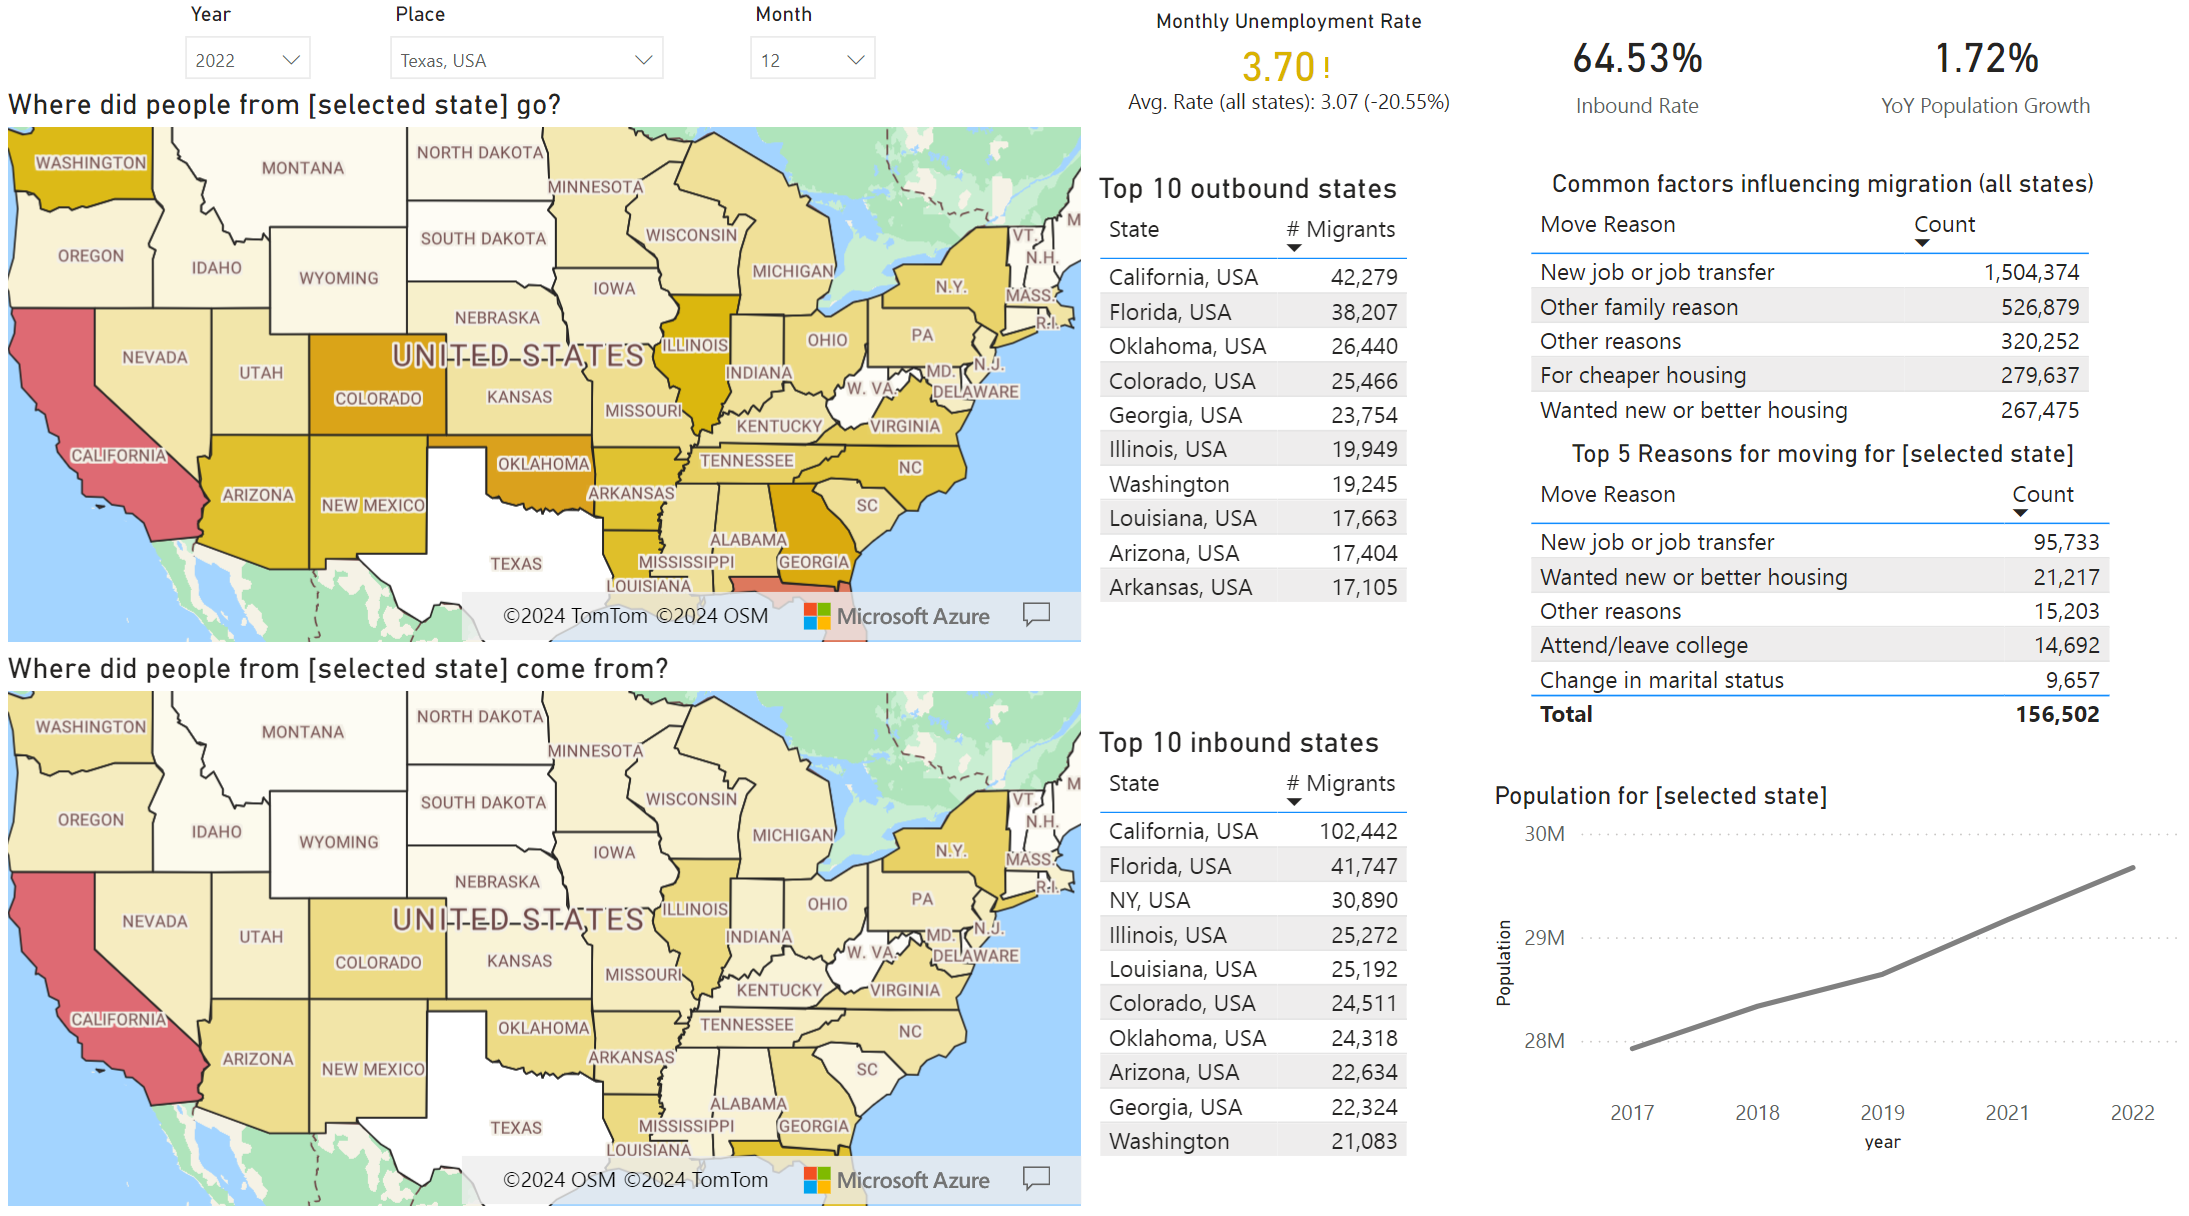

Layout of this report page (visuals, bound fields, positions):
{"tool":"powerbi","page":{"name":"State-to-State Migration","canvas":[1280,720],"ordinal":1},"visuals":[{"type":"slicer","fields":{"Values":["State_Filter.Place"]},"box":[116.2,0,178.6,53.8],"z":0},{"type":"slicer","fields":{"Values":["Year_Filter.year"]},"box":[0,0,93.1,53.7],"z":1000},{"type":"azureMap","title":"Where did people from [selected state] go?","fields":{"Category":["state_lookup.state_name"]},"box":[5.7,54.1,634.3,327.8],"z":2000},{"type":"azureMap","title":"Where did people from [selected state] come from?","fields":{"Category":["state_lookup.state_name"]},"box":[5.7,381.9,634.3,327.8],"z":3000},{"type":"tableEx","title":"Top 10 outbound states","fields":{"Values":["state_lookup.state_name","Measure Table.# Migrants FROM selected state"]},"box":[640,102.9,229.9,265.3],"z":4000},{"type":"tableEx","title":"Top 10 inbound states","fields":{"Values":["state_lookup.state_name","Measure Table.# Migrants TO selected state"]},"box":[640,424.5,229.9,265.3],"z":5000},{"type":"lineChart","title":"Population for [selected state]","fields":{"Category":["state_population_by_year.year"],"Y":["Measure Table.Population (Line Chart)"]},"box":[869.9,458.3,410.1,219.5],"z":6000},{"type":"tableEx","title":"Top 5 Reasons for moving for [selected state]","fields":{"Values":["move_reason_by_state.move_reason","Sum(move_reason_by_state.move_reason_count)"]},"box":[890.1,259.7,350.6,179.3],"z":7000},{"type":"tableEx","title":"Common factors influencing migration (all states)","fields":{"Values":["move_reason_by_state.move_reason","move_reason_by_state.move_reason_count"]},"box":[890.1,102.9,350.6,156.8],"z":8000},{"type":"card","fields":{"Values":["Measure Table.Inbound Rate (KPI)"]},"box":[870.2,0,135.7,70.4],"z":9000},{"type":"card","fields":{"Values":["Measure Table.YoY Population Growth"]},"box":[1070.6,0,141.5,70.4],"z":10000}]}

Visuals, with their boxes in screenshot pixels (x1, y1, x2, y2), scaled from the page's 1280x720 canvas onto the 2189x1216 screenshot:
slicer - State_Filter.Place: {"x1": 199, "y1": 0, "x2": 504, "y2": 91}
slicer - Year_Filter.year: {"x1": 0, "y1": 0, "x2": 159, "y2": 91}
"Where did people from [selected state] go?" azureMap: {"x1": 10, "y1": 91, "x2": 1094, "y2": 645}
"Where did people from [selected state] come from?" azureMap: {"x1": 10, "y1": 645, "x2": 1094, "y2": 1199}
"Top 10 outbound states" tableEx: {"x1": 1094, "y1": 174, "x2": 1488, "y2": 622}
"Top 10 inbound states" tableEx: {"x1": 1094, "y1": 717, "x2": 1488, "y2": 1165}
"Population for [selected state]" lineChart: {"x1": 1488, "y1": 774, "x2": 2188, "y2": 1145}
"Top 5 Reasons for moving for [selected state]" tableEx: {"x1": 1522, "y1": 439, "x2": 2122, "y2": 741}
"Common factors influencing migration (all states)" tableEx: {"x1": 1522, "y1": 174, "x2": 2122, "y2": 439}
card - Measure Table.Inbound Rate (KPI): {"x1": 1488, "y1": 0, "x2": 1720, "y2": 119}
card - Measure Table.YoY Population Growth: {"x1": 1831, "y1": 0, "x2": 2073, "y2": 119}
